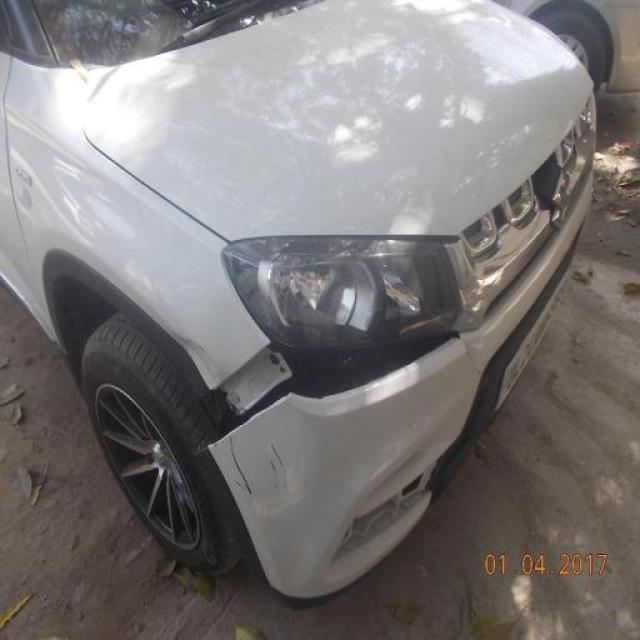dent: (175, 332, 222, 391), (459, 326, 490, 382)
scratch: (224, 434, 256, 505), (269, 438, 298, 494)
tear: (208, 331, 464, 453)
